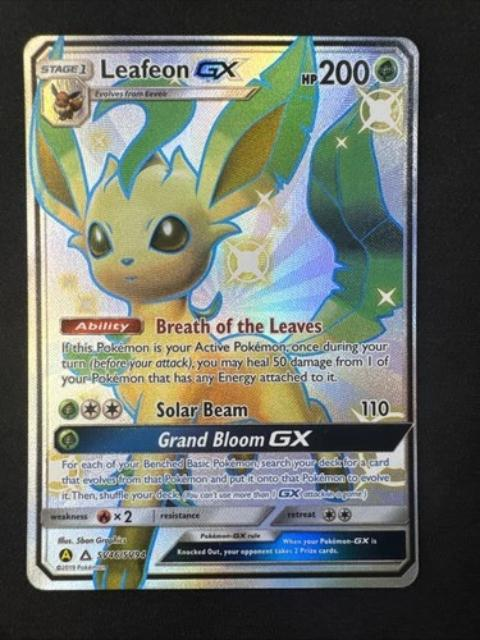Card: (20, 31, 420, 591)
Name: (101, 55, 243, 82)
